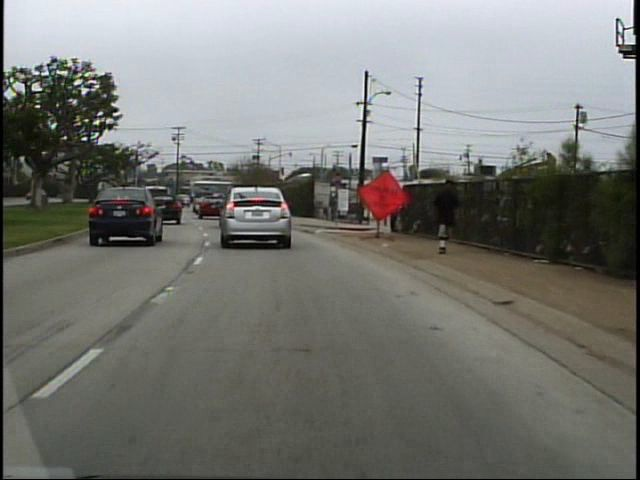person: (426, 174, 461, 259)
